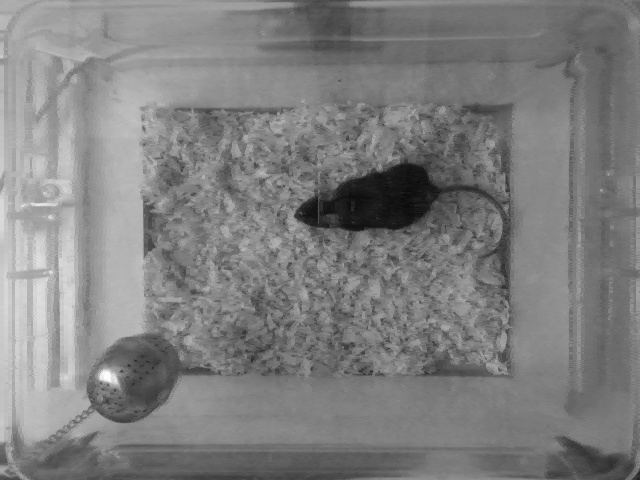mice: (299, 159, 508, 259)
